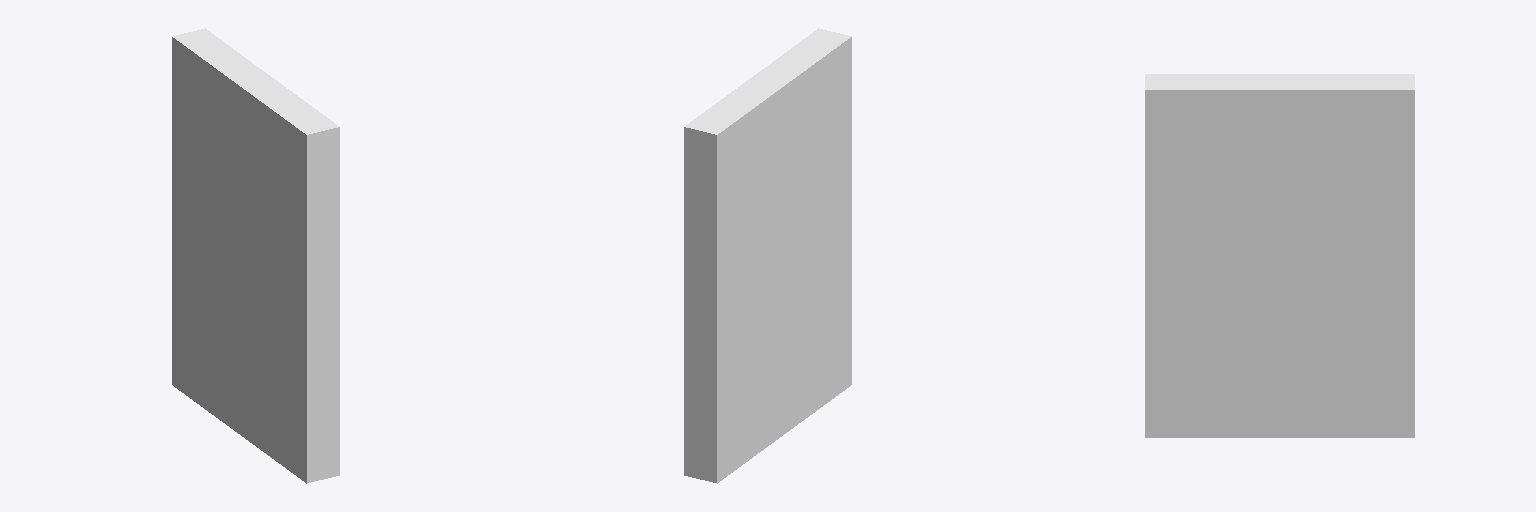
The model's file is Volt-4.obj.
The picture shows the model from 3 angles: view 1: azimuth 30°, elevation 25°; view 2: azimuth 150°, elevation 25°; view 3: azimuth 270°, elevation 25°; orthographic projection.
Parts seen in each view (by area): view 1: object 1; view 2: object 1; view 3: object 1.
Part boxes in pixels (x1,y1,x2,y2): object 1: (172, 28, 339, 483); object 1: (684, 28, 851, 483); object 1: (1145, 74, 1414, 437).
Bounding box in the file's own units: 0.1 × 1 × 0.7.